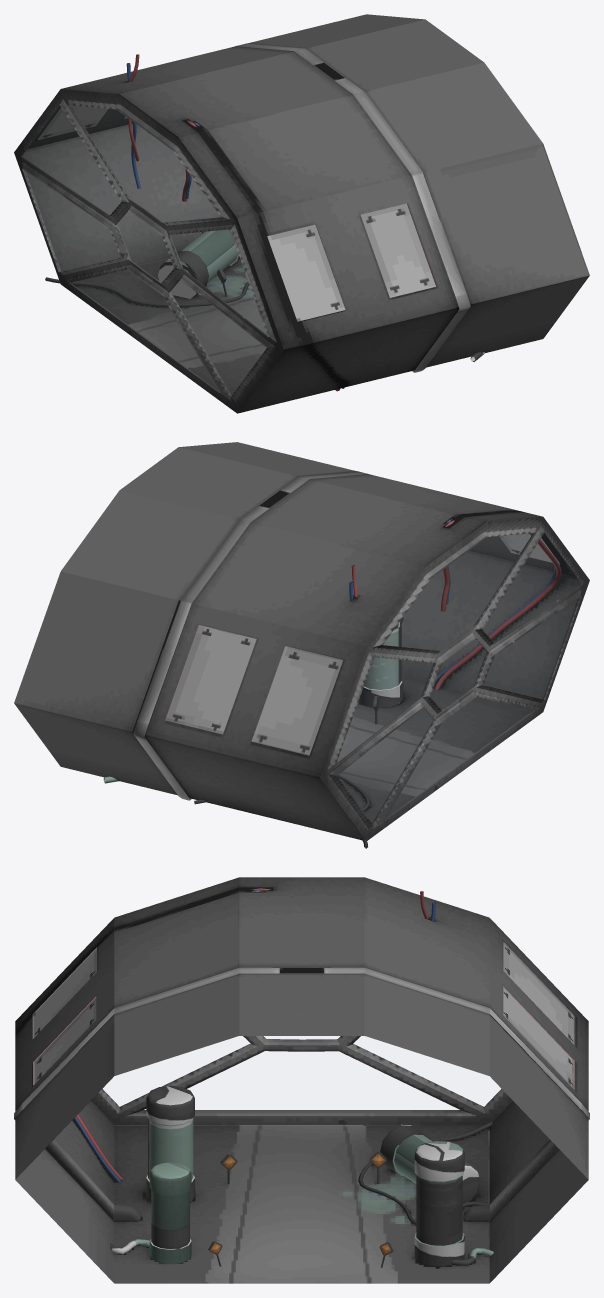
Rendered from M_Main Enviroment.fbx.
3 views of the same model, one above another, from view 1: azimuth 30°, elevation 25°; view 2: azimuth 150°, elevation 25°; view 3: azimuth 270°, elevation 25° (orthographic). The views are drawn at different scales.
Visible parts, largest first — view 1: Plane.001, Plane.002, Cube, Cylinder.008, Cables, BézierCurve.005; view 2: Plane.001, Plane.002, Cube, Cylinder.001, Cables; view 3: Plane.001, Plane.002, Cube, Cylinder.009, Cylinder, Cylinder.001, Cylinder.008, Cables, BézierCurve.005.
Part boxes in pixels (x1,y1,x2,y2): Plane.001: [22, 14, 589, 413]; Plane.002: [14, 89, 283, 413]; Cube: [235, 43, 470, 372]; Cylinder.008: [158, 229, 239, 298]; Cables: [126, 54, 344, 391]; BézierCurve.005: [45, 277, 249, 306]; Plane.001: [14, 442, 581, 840]; Plane.002: [320, 516, 589, 840]; Cube: [133, 471, 367, 800]; Cylinder.001: [359, 617, 403, 707]; Cables: [349, 519, 561, 689]; Plane.001: [15, 877, 588, 1283]; Plane.002: [91, 1036, 512, 1124]; Cube: [14, 967, 589, 1221]; Cylinder.009: [414, 1141, 464, 1266]; Cylinder: [149, 1162, 191, 1263]; Cylinder.001: [146, 1086, 194, 1201]; Cylinder.008: [380, 1124, 480, 1203]; Cables: [74, 888, 435, 1182]; BézierCurve.005: [358, 1122, 492, 1224].
Bounding box in the file's own units: 3.49 × 2.62 × 5.21.
